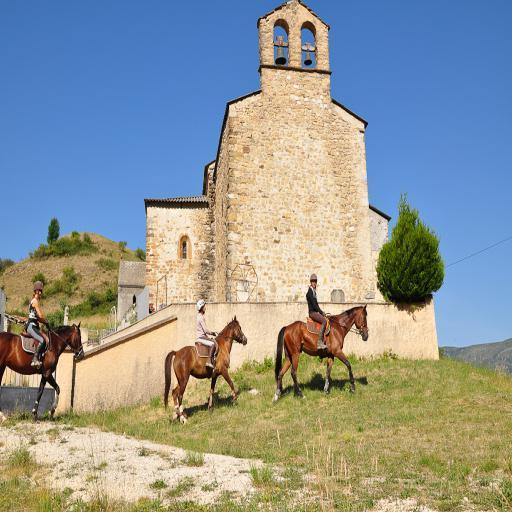horse: (274, 300, 370, 397), (164, 314, 247, 424), (0, 318, 85, 420)
